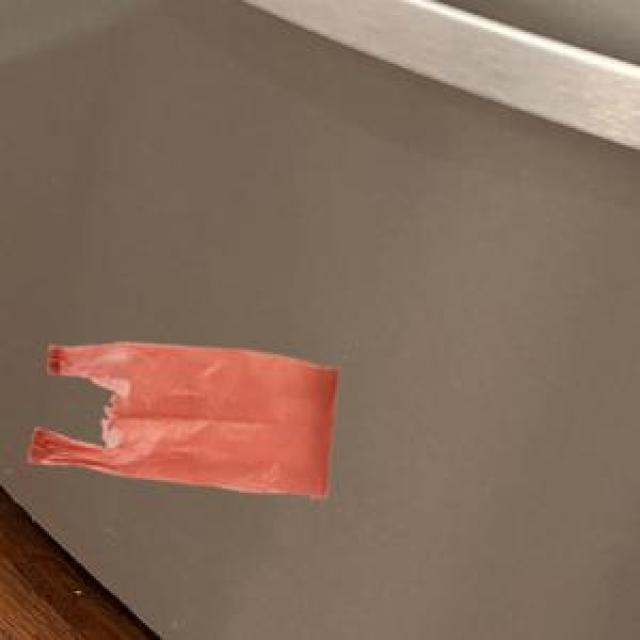waste: (31, 342, 338, 498)
